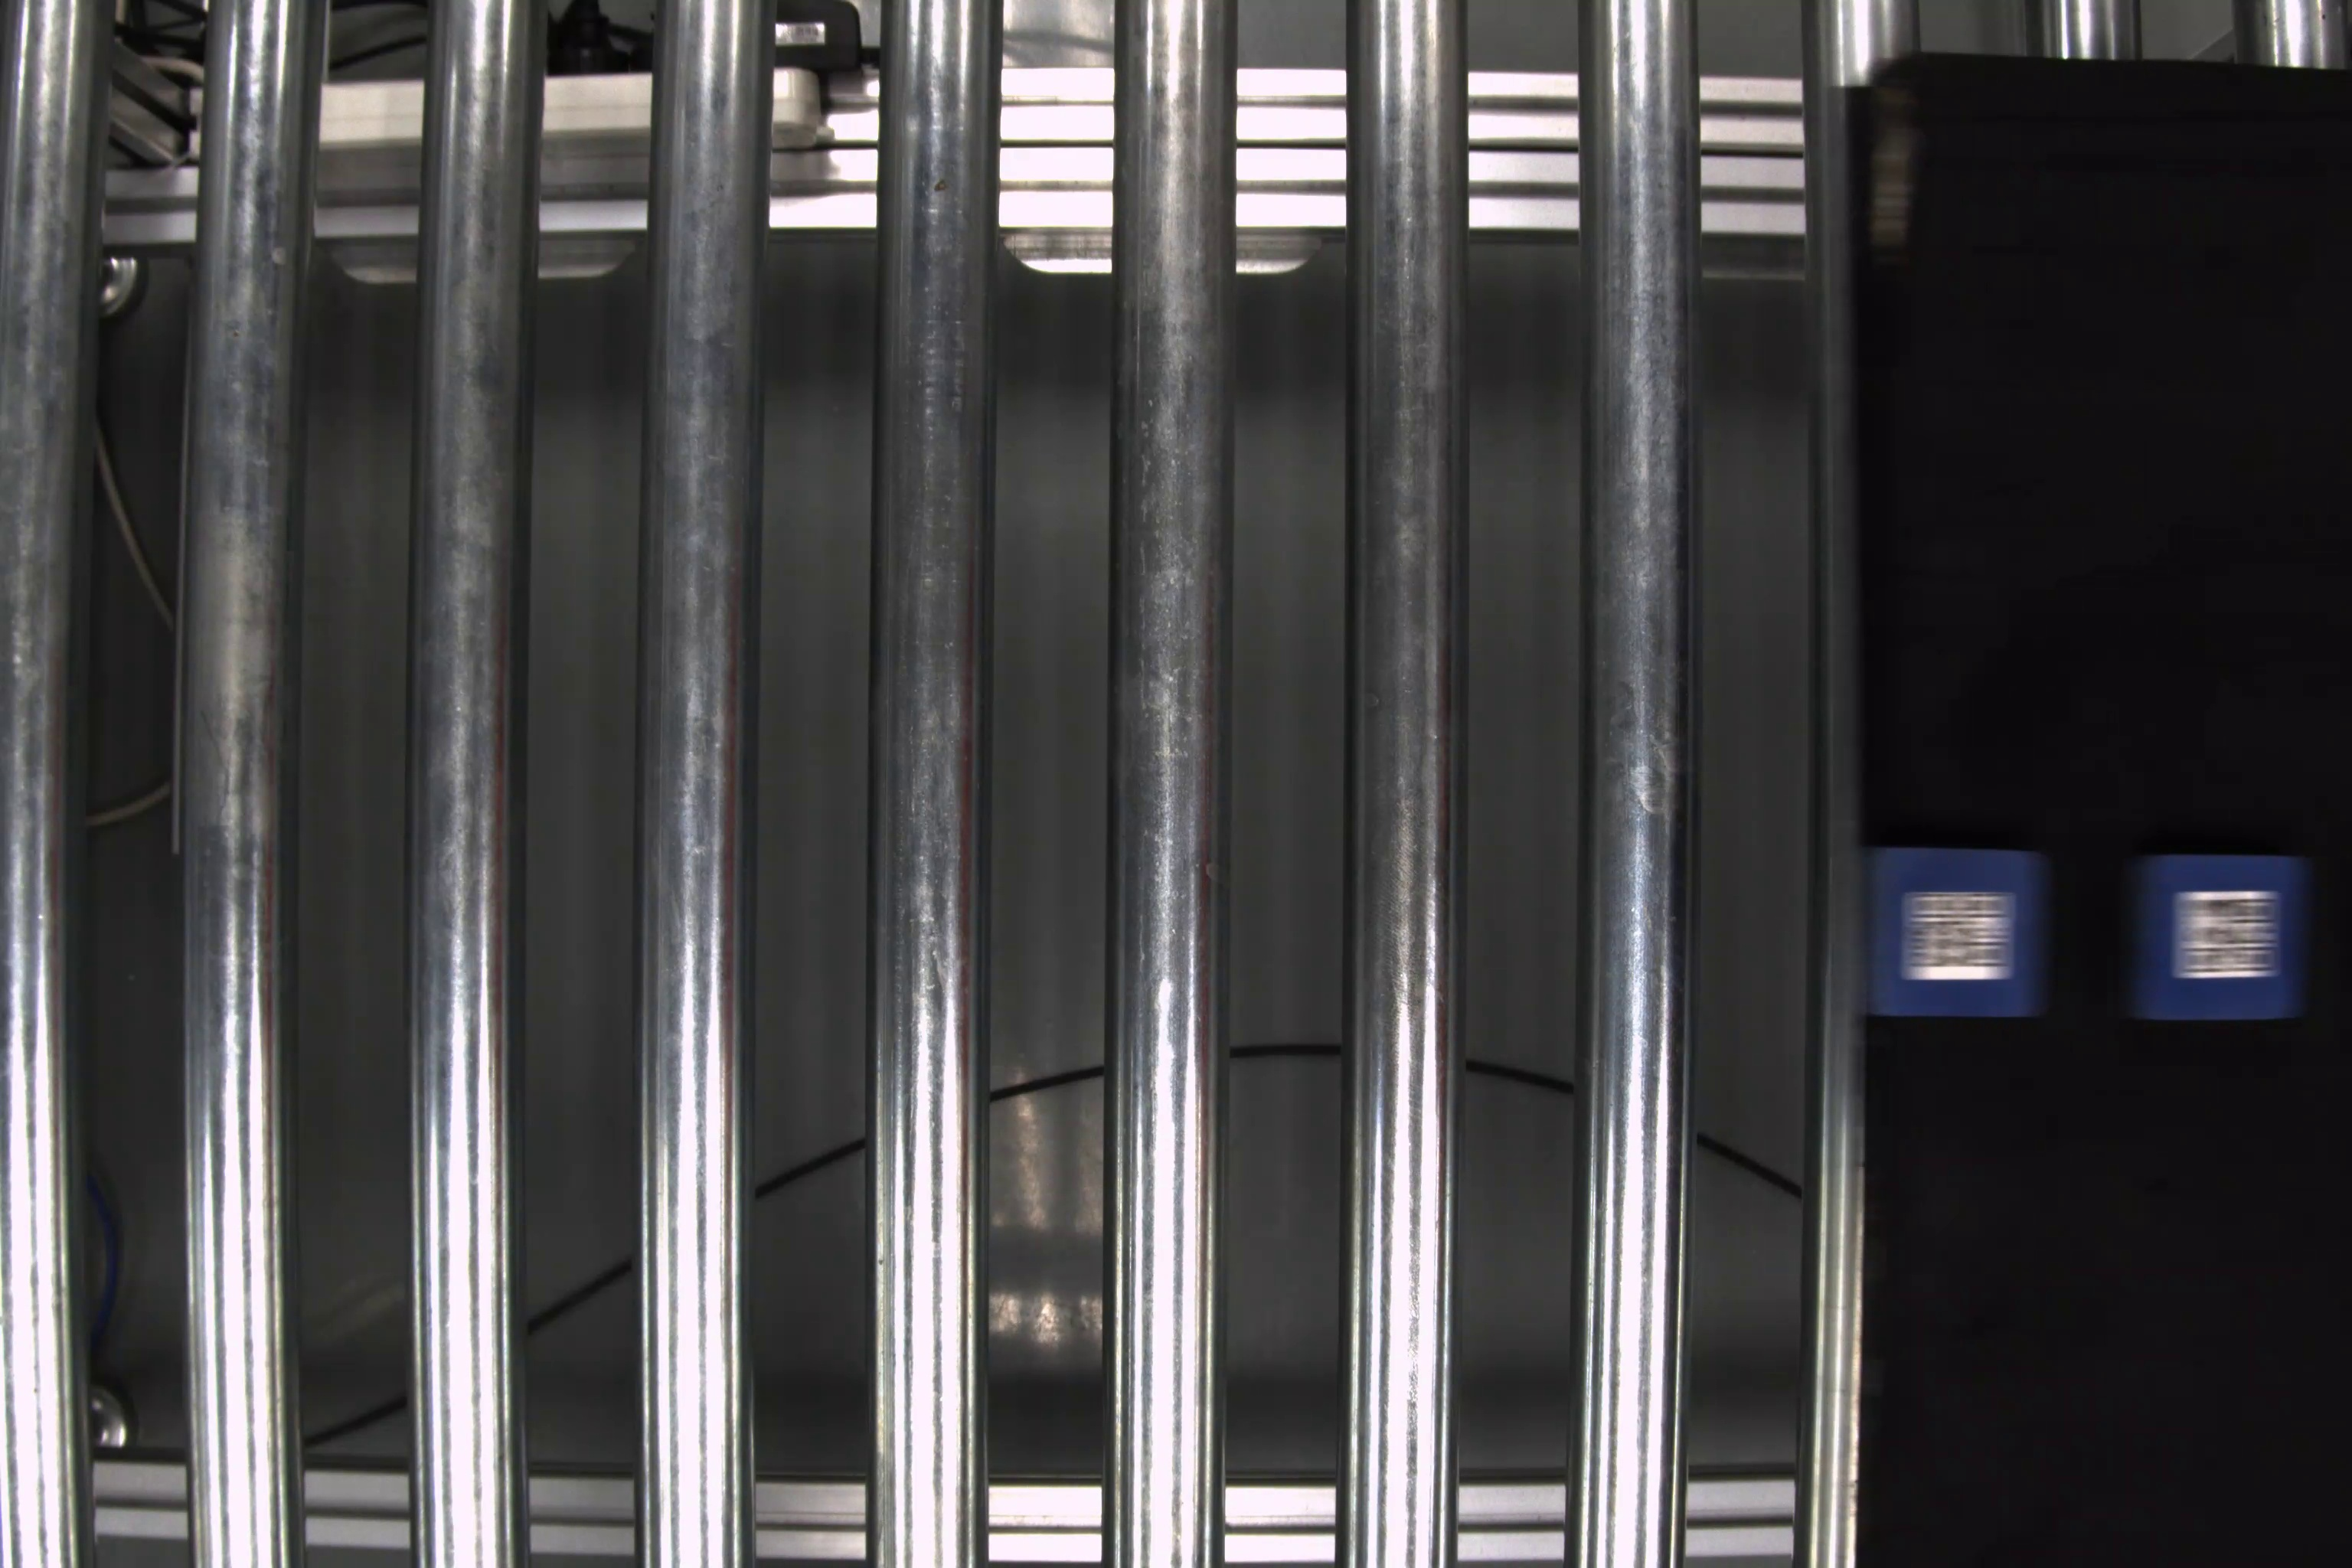wood: (1864, 843, 2046, 1027), (2123, 847, 2310, 1025)
